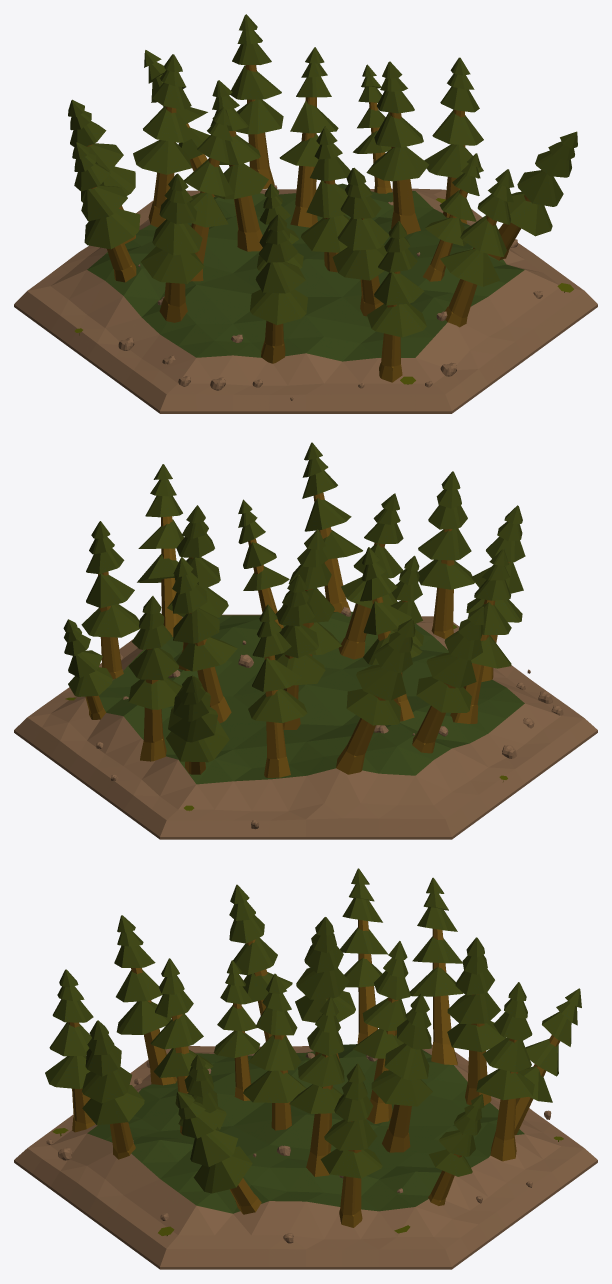
The model's file is temperateRainforest.glb.
3 views of the same model, one above another, from view 1: azimuth 30°, elevation 25°; view 2: azimuth 150°, elevation 25°; view 3: azimuth 270°, elevation 25° (orthographic).
Visible parts, largest first — view 1: land; view 2: land; view 3: land.
Part boxes in pixels (x1=…): land: x1=14, y1=14, x2=597, y2=413; land: x1=14, y1=442, x2=597, y2=839; land: x1=14, y1=868, x2=597, y2=1269.
Size of the model in its own units: 1.73 by 0.8052 by 2.
Materials: 1 (1 with a texture image).
